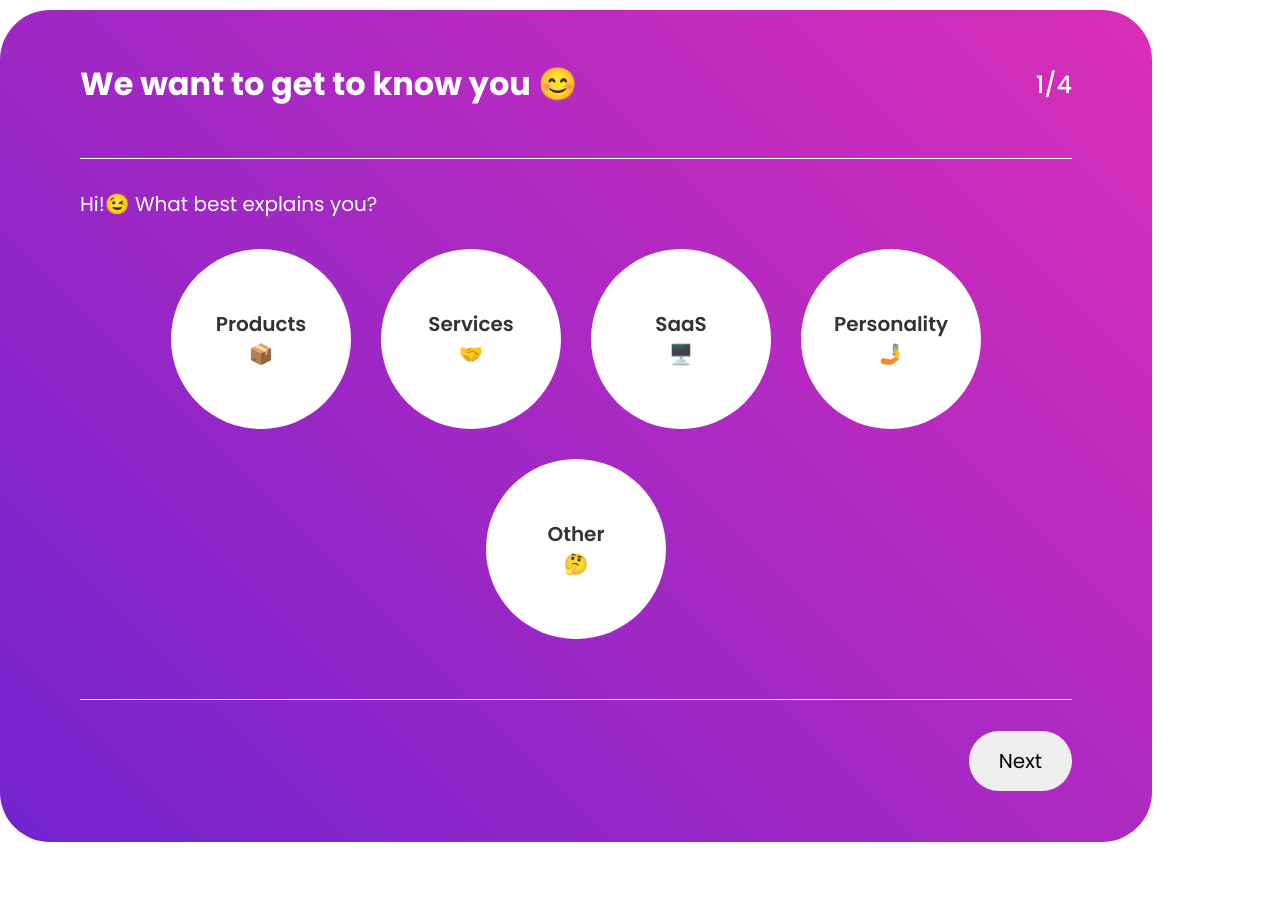
Test: Customer Component › should go to the next page when clicking on the next button
The width and height of the screenshot is (1280, 900).
What coordinates should you click on to do the following:
click the button with test id "next"
I would click on:
 (1020, 761)
Its box is [969,731,1072,791].
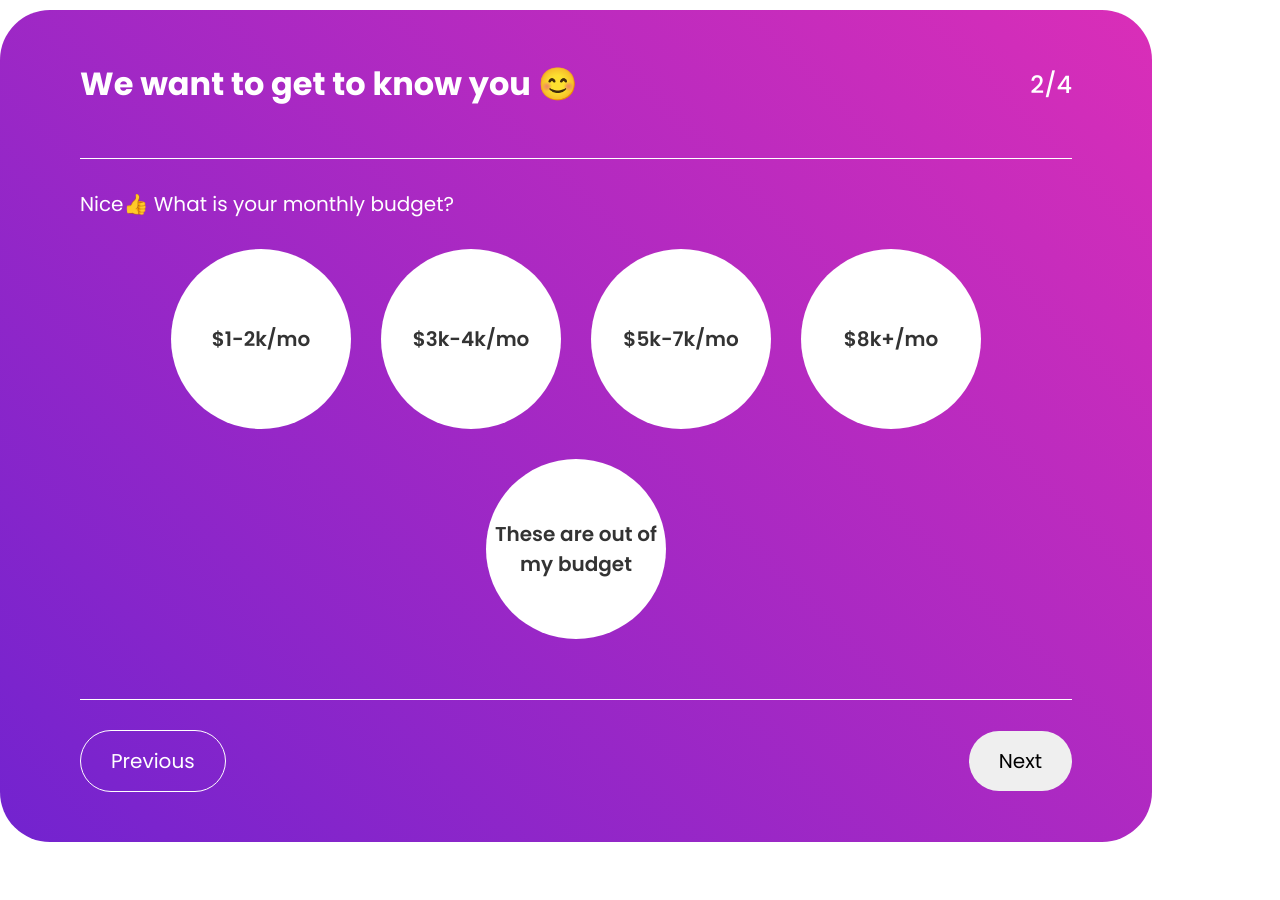
Now the heading "Nice👍 What is your monthly budget?" is shown, box [80,190,454,218]
Now the text "$1-2k/mo" is shown, box [212,324,310,354]
Now the text "$3k-4k/mo" is shown, box [413,324,529,354]
What coordinates should you click on to do the following:
click the button with test id "next"
I would click on:
 (1020, 761)
Its box is [969,731,1072,791].
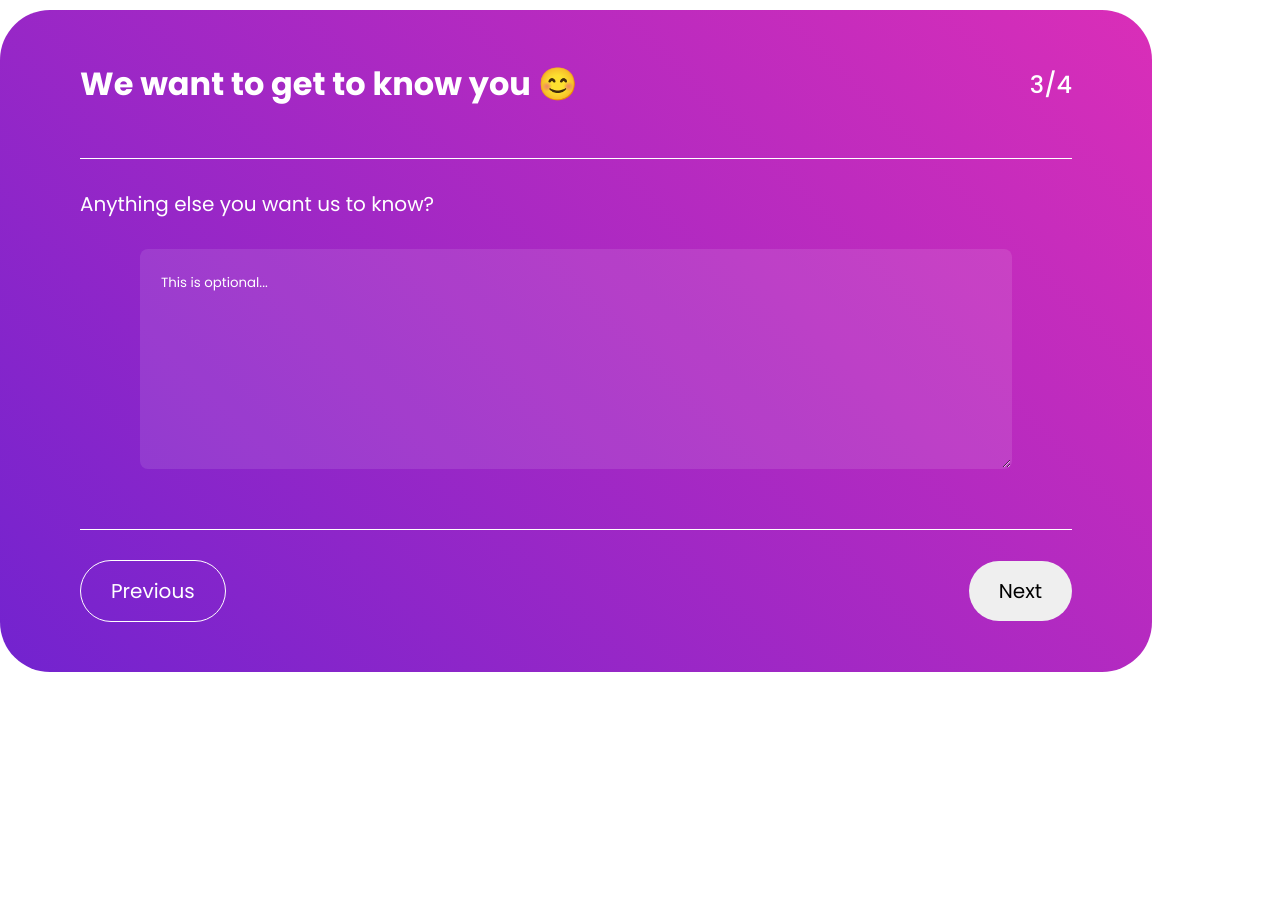
Now the heading "Anything else you want us to know?" is shown, box [80,190,434,218]
